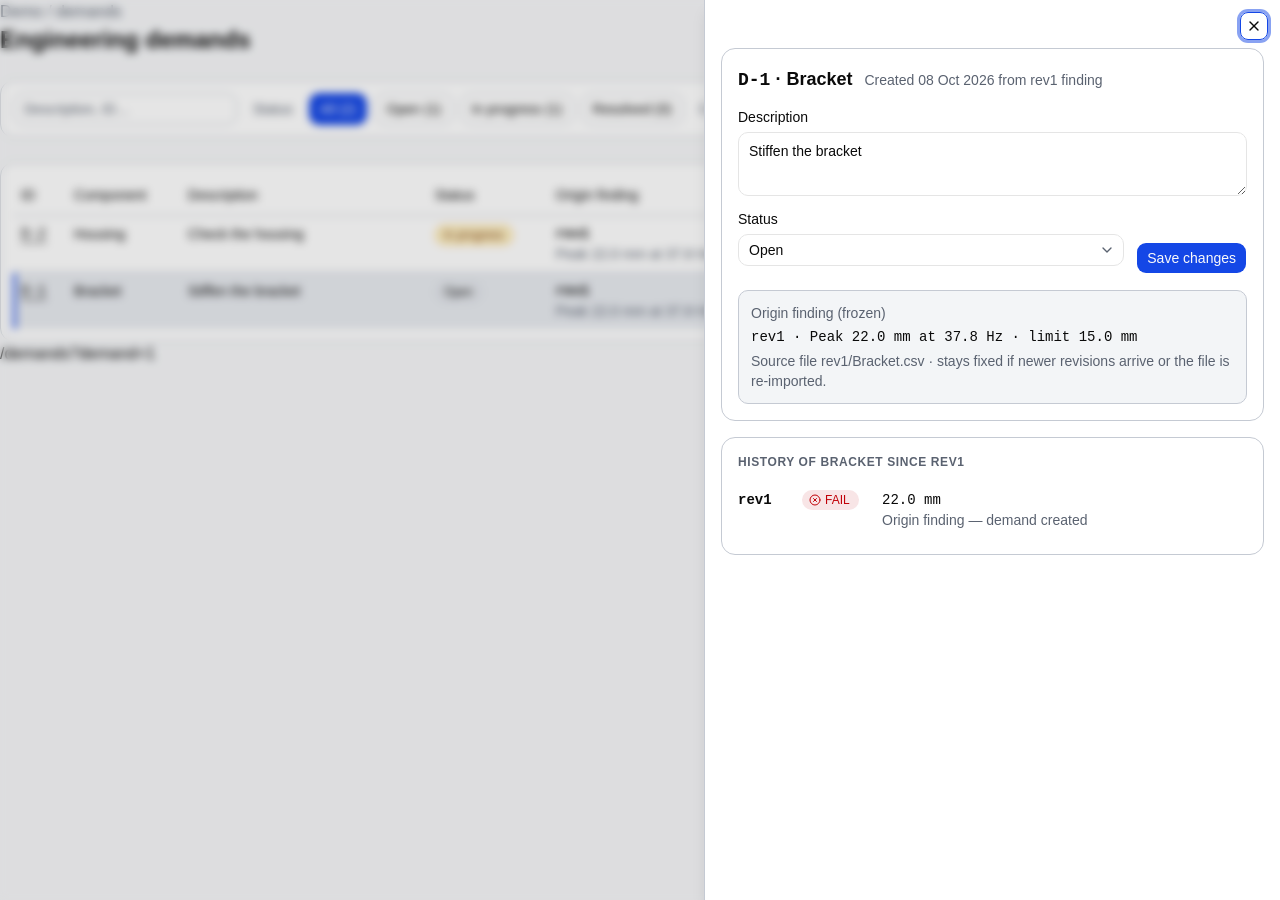
Scenario: shows a validation error in the detail panel when a save is refused
Expected: the heading "D-1 · Bracket" is shown, left=738, top=65, right=852, bottom=94
Click the button "Save changes": (1192, 258) left=1136, top=242, right=1247, bottom=274
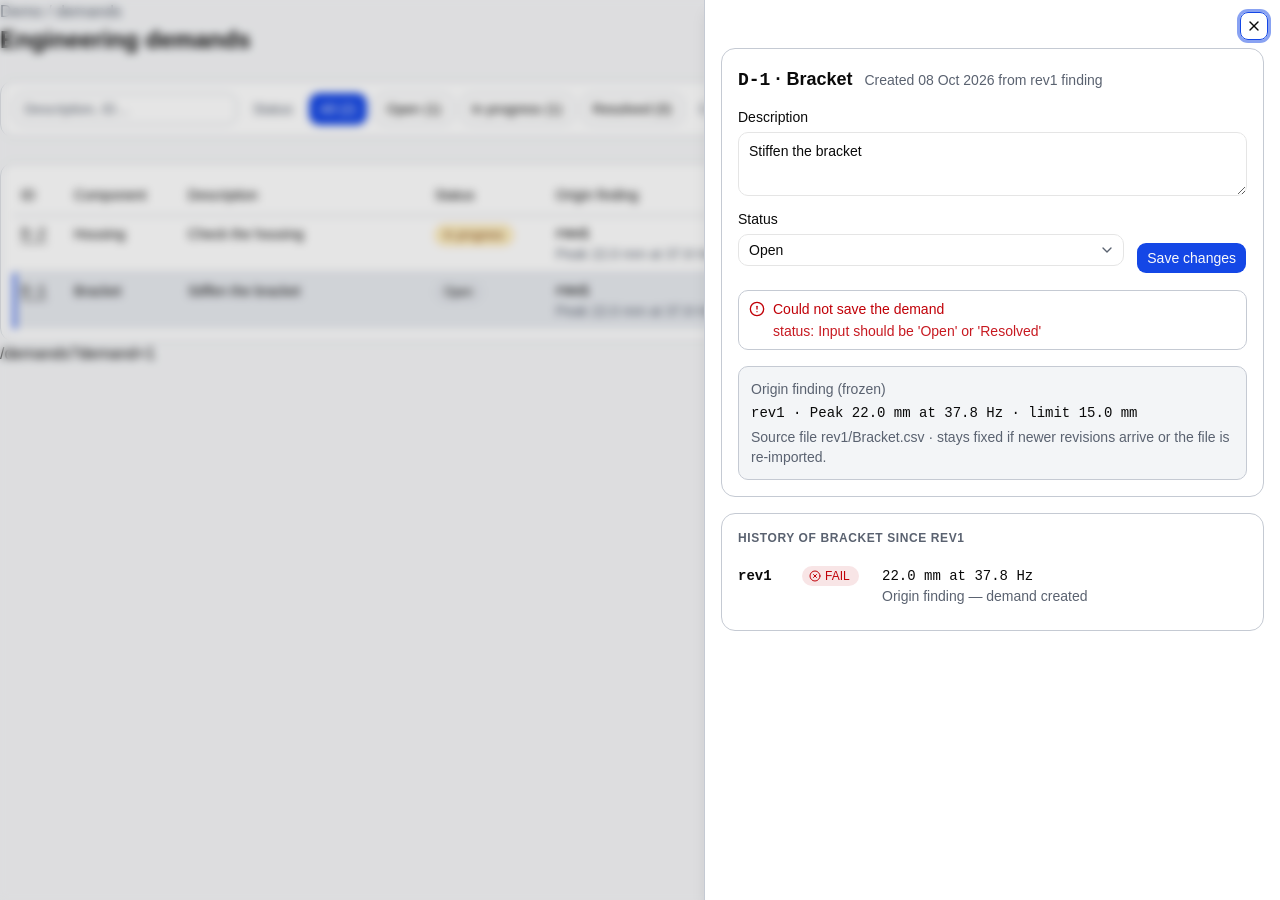
Now the message shows "Could not save the demand", box left=773, top=301, right=944, bottom=317
Now the message shows "status: Input should be 'Open' or 'Resolved'", box left=773, top=323, right=1041, bottom=339
